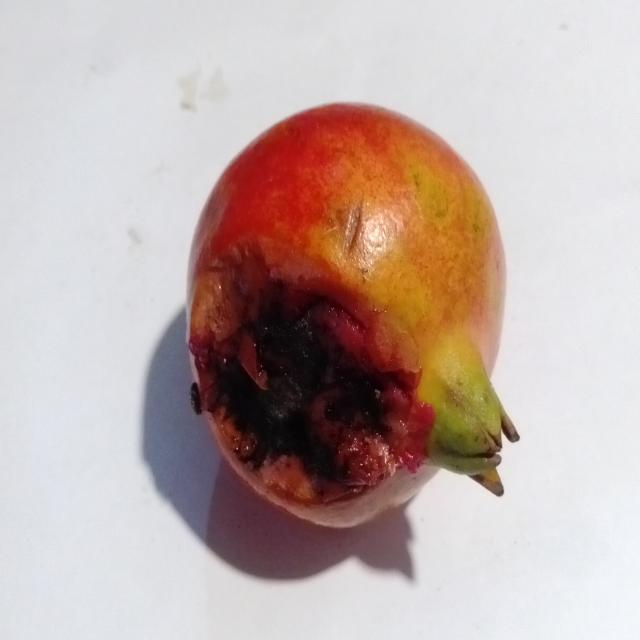Rotten: (187, 97, 518, 540)
